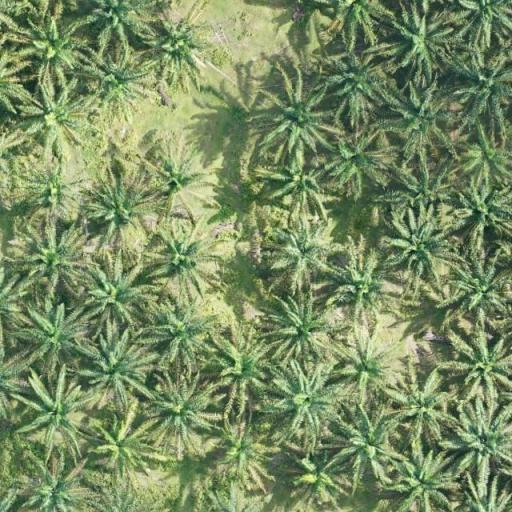Ganoderma: (152, 156, 198, 200)
